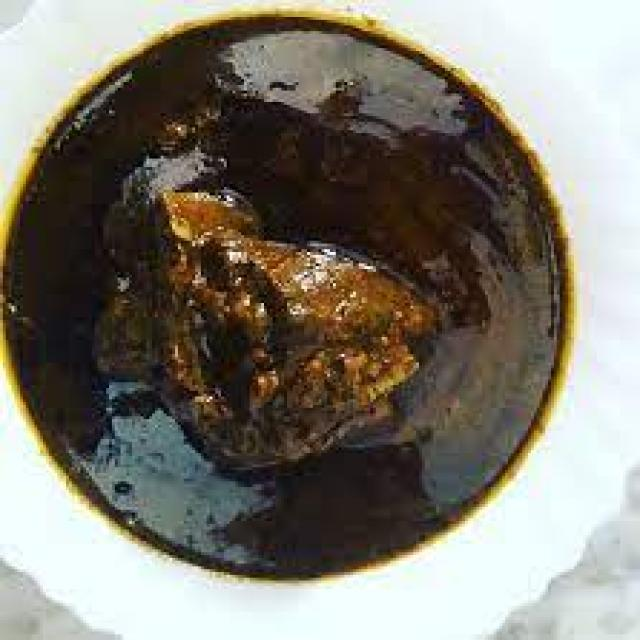Melloukhia: (35, 29, 563, 558)
